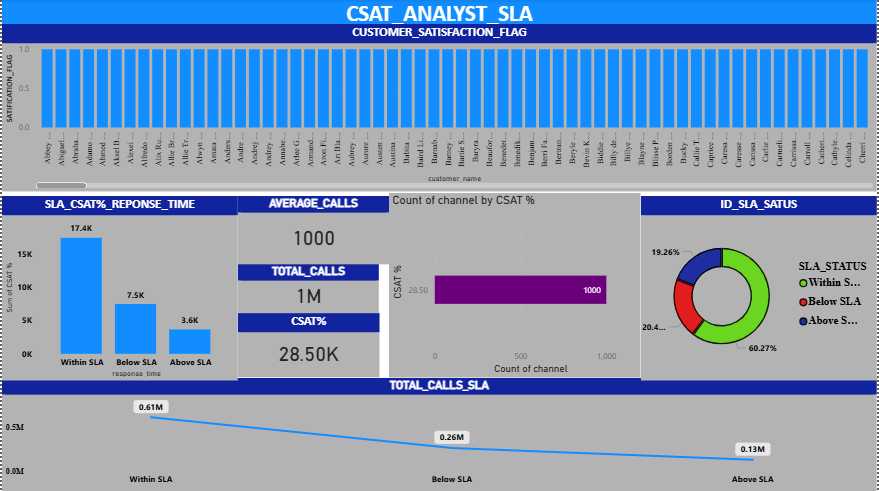

What the dashboard file says about the page in this screenshot:
{"tool":"powerbi","page":{"name":"SLA_DETAILS","canvas":[1280,720],"ordinal":0},"visuals":[{"type":"card","title":"CSAT%","fields":{"Values":["Sum(CSAT_DATA.CSAT %)"]},"box":[345.3,459.5,206.9,94.2],"z":0},{"type":"card","title":"TOTAL_CALLS","fields":{"Values":["Sum(CSAT_DATA.Total_Calls)"]},"box":[345.4,387.8,206.3,71.7],"z":1000},{"type":"lineStackedColumnComboChart","title":"TOTAL_CALLS_SLA","fields":{"Y2":["Sum(CSAT_DATA.Total_Calls)"],"Category":["CSAT_DATA.response_time"]},"box":[0,554.2,1280,166.3],"z":2000},{"type":"card","title":"AVERAGE_CALLS","fields":{"Values":["CountNonNull(CSAT_DATA.Average_Cast)"]},"box":[345.4,288.3,221,99.5],"z":3000},{"type":"clusteredColumnChart","title":"SLA_CSAT%_REPONSE_TIME","fields":{"Category":["CSAT_DATA.response_time"],"Y":["Sum(CSAT_DATA.CSAT %)"]},"box":[0,287.8,345,269.9],"z":4000},{"type":"donutChart","title":"ID_SLA_SATUS","fields":{"Y":["Sum(CSAT_DATA.NEW_id)"],"Category":["CSAT_DATA.response_time"]},"box":[935,287.8,345,269.9],"z":5000},{"type":"barChart","fields":{"Category":["CSAT_DATA.CSAT %"],"Y":["CountNonNull(CSAT_DATA.channel)"]},"box":[566.7,284.2,368.3,269.9],"z":6000},{"type":"shape","title":"CSAT_ANALYST_SLA","box":[0,0,1280,37.1],"z":7000},{"type":"lineStackedColumnComboChart","title":"CUSTOMER_SATISFACTION_FLAG","fields":{"Category":["CSAT_DATA.customer_name"],"Y":["Sum(CSAT_DATA.Satisfied_Flag)"]},"box":[0,37.1,1280,245.4],"z":8000}]}

Visuals, with their boxes in screenshot pixels (x1, y1, x2, y2), scaled from the page's 1280x720 canvas onto the 879x491 screenshot:
"CSAT%" card: 237:313:379:378
"TOTAL_CALLS" card: 237:264:379:313
"TOTAL_CALLS_SLA" lineStackedColumnComboChart: 0:378:878:490
"AVERAGE_CALLS" card: 237:197:389:264
"SLA_CSAT%_REPONSE_TIME" clusteredColumnChart: 0:196:237:380
"ID_SLA_SATUS" donutChart: 642:196:878:380
barChart - CSAT_DATA.CSAT % x CountNonNull(CSAT_DATA.channel): 389:194:642:378
"CSAT_ANALYST_SLA" shape: 0:0:878:25
"CUSTOMER_SATISFACTION_FLAG" lineStackedColumnComboChart: 0:25:878:193
